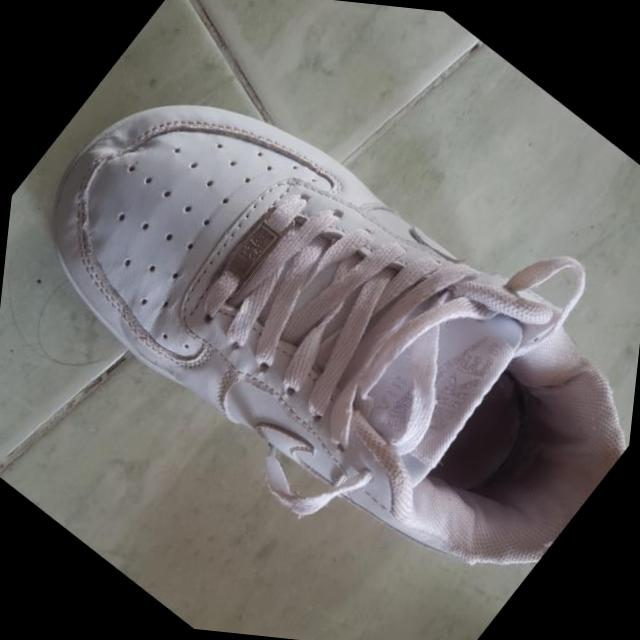nike_fake_airforce: (0, 1, 640, 631)
